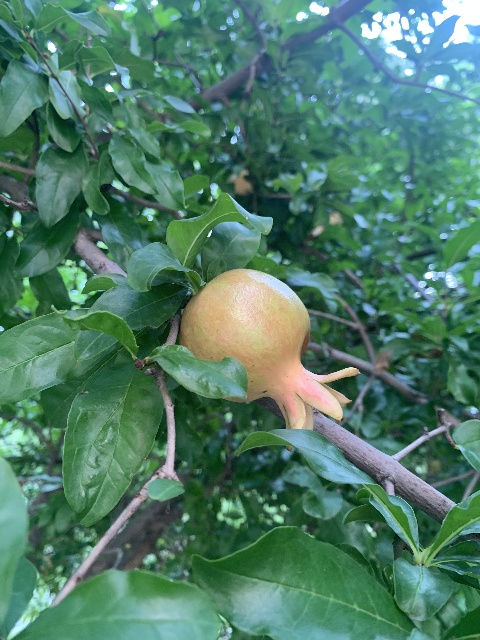mid-growth: (179, 269, 359, 433)
